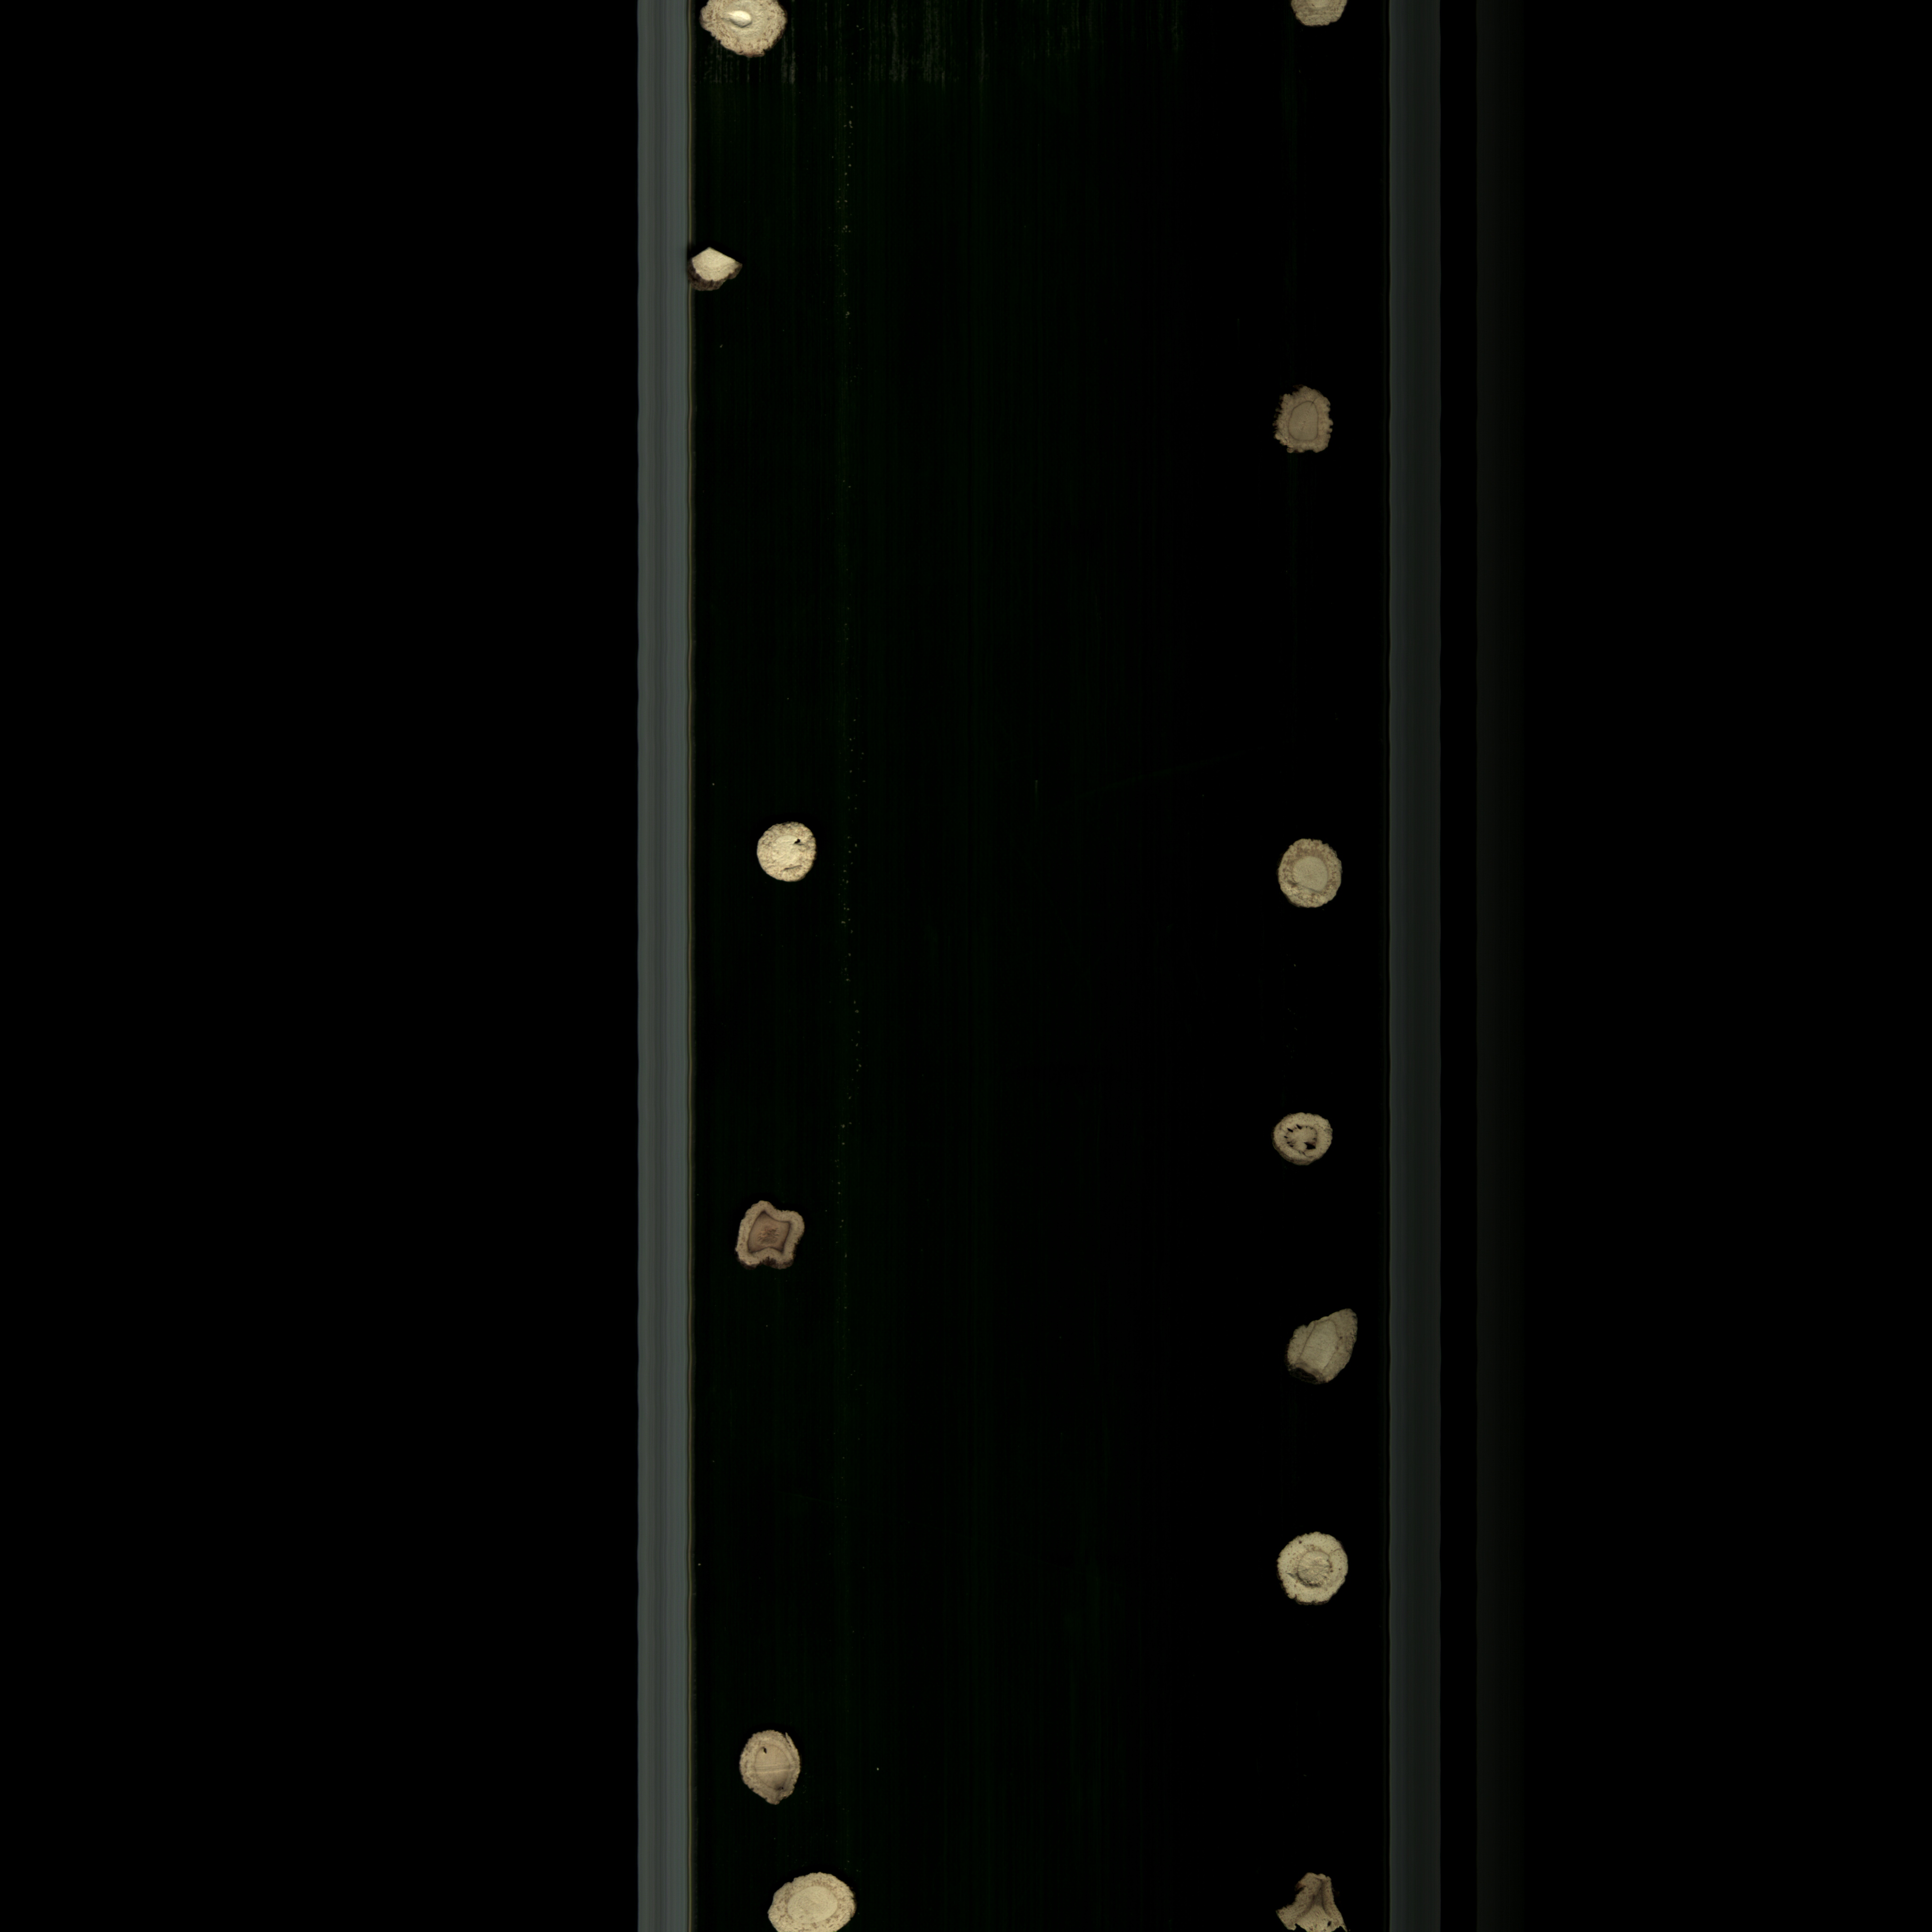dreg: (678, 244, 752, 297)
hole: (697, 2, 805, 76), (748, 814, 823, 904)
moldy: (724, 1191, 814, 1288), (1254, 379, 1345, 472), (1269, 826, 1345, 924), (1279, 1297, 1361, 1387), (1256, 1106, 1353, 1177), (1267, 1858, 1355, 1932)
